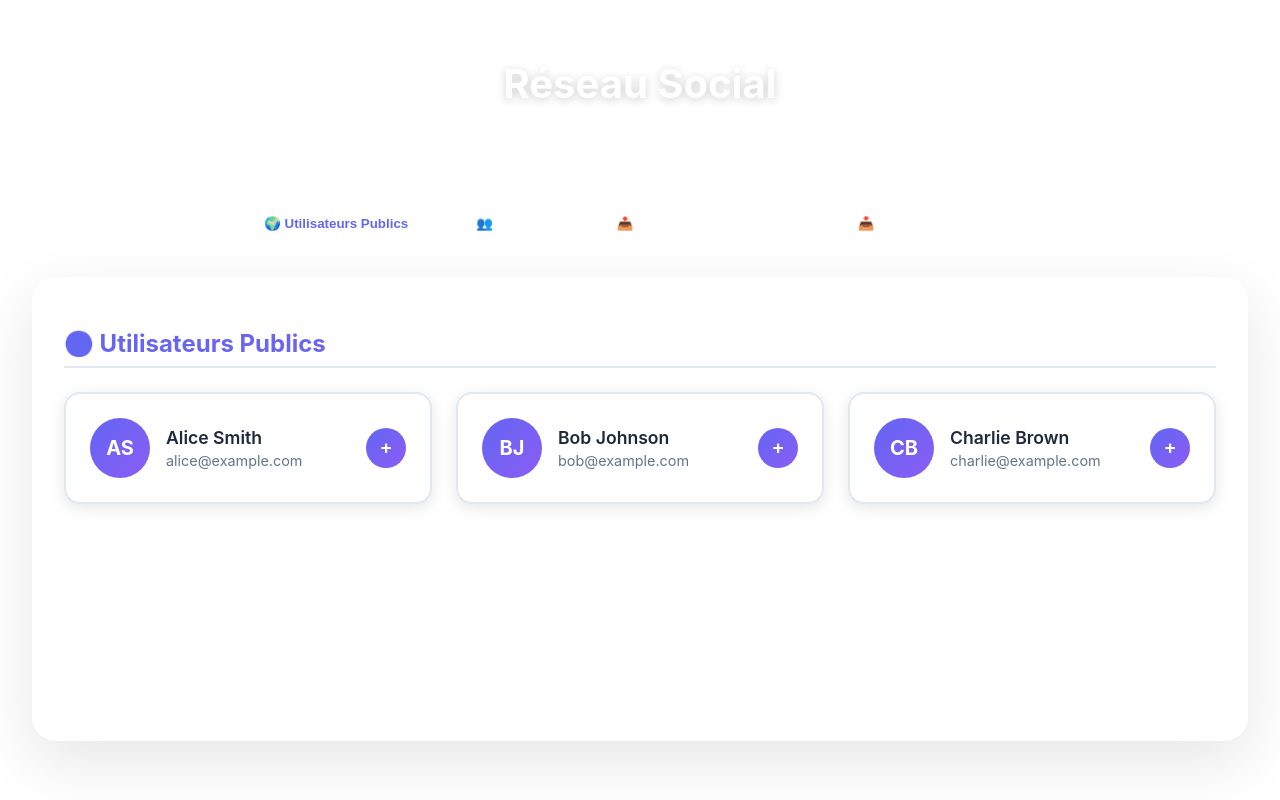
Test: Profil Component › onglet Amis → affiche les amis
The image size is (1280, 800).
Check: the heading "Alice Smith" is shown, box [166,427,262,448]
Click the button "👥 Amis (1)" at (513, 223), box [450,202,575,245]
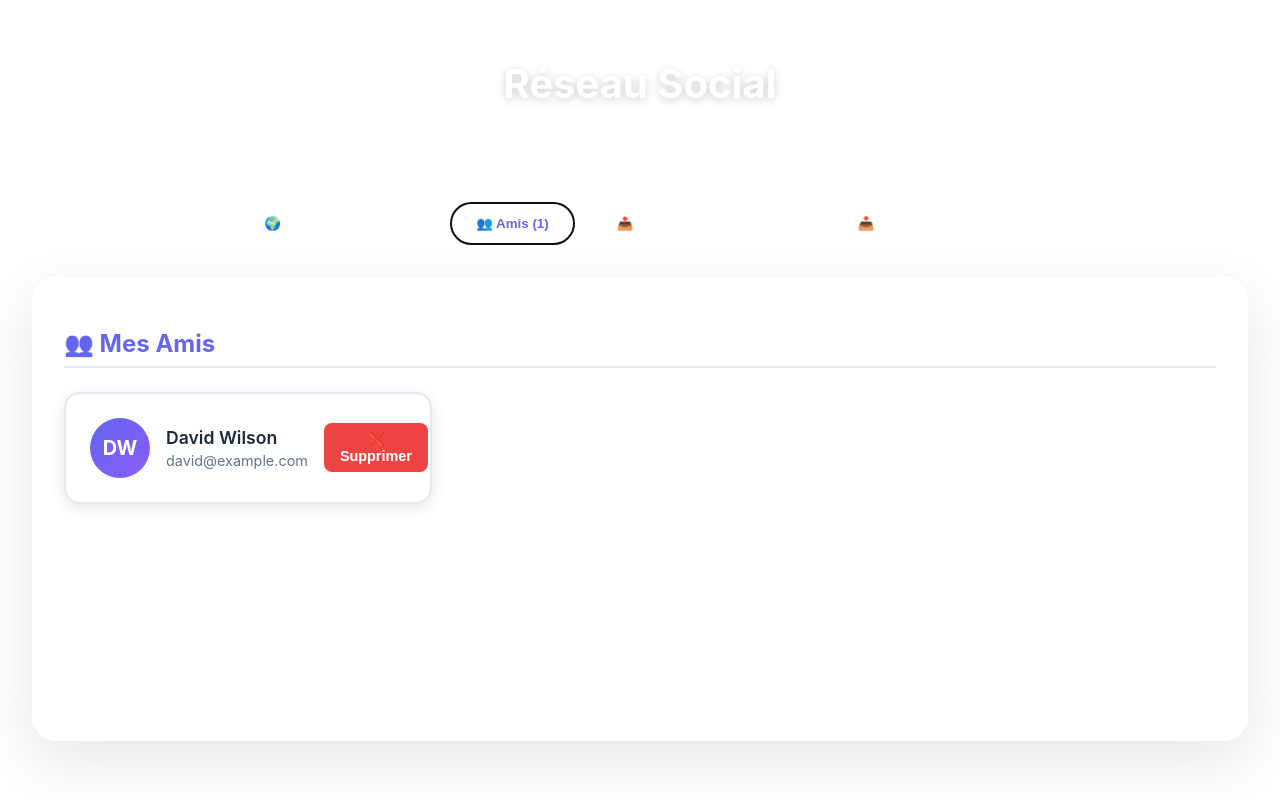
Check: the heading "David Wilson" is shown, box [166,427,277,448]
Check: the heading "👥 Mes Amis" is shown, box [64,329,1216,368]
